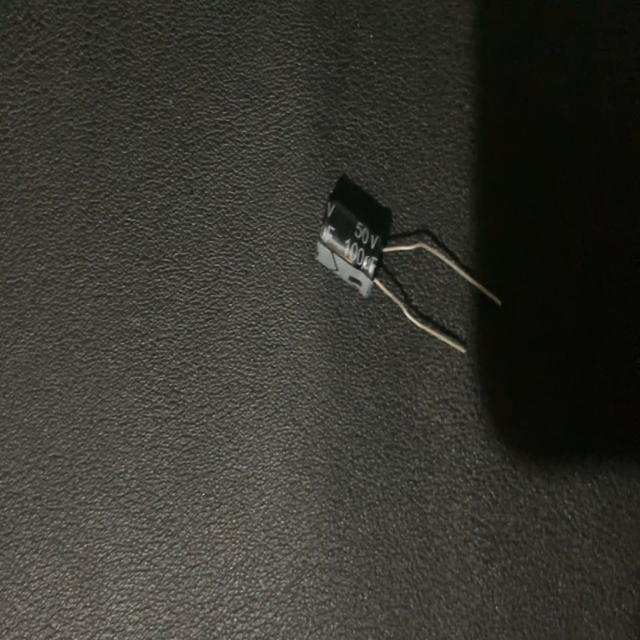capacitor: (308, 184, 507, 363)
